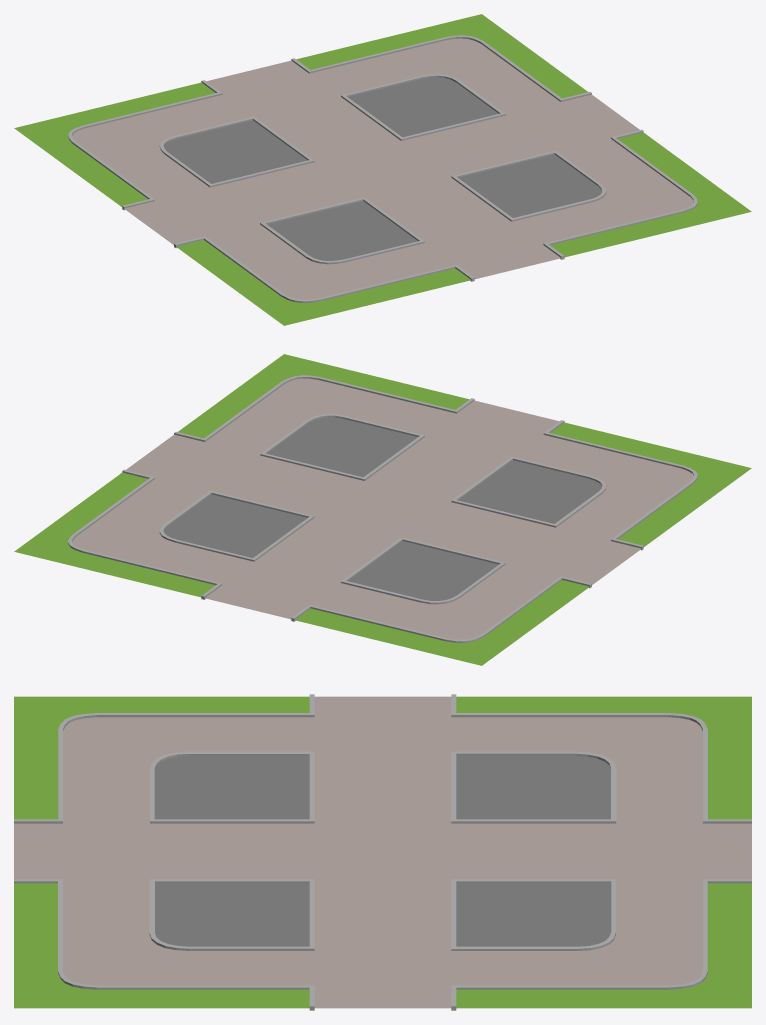
Rendered from building_platform_001.glb.
3 views of the same model, one above another, from view 1: azimuth 30°, elevation 25°; view 2: azimuth 150°, elevation 25°; view 3: azimuth 270°, elevation 25° (orthographic). The views are drawn at different scales.
Parts seen in each view (by area): view 1: building_platform_001; view 2: building_platform_001; view 3: building_platform_001.
Part boxes in pixels (x1,y1,x2,y2): building_platform_001: (14, 14, 751, 325); building_platform_001: (14, 354, 751, 665); building_platform_001: (14, 694, 751, 1010).
Size of the model in its own units: 30 by 0.2 by 30.
1 material, 1 textured.
